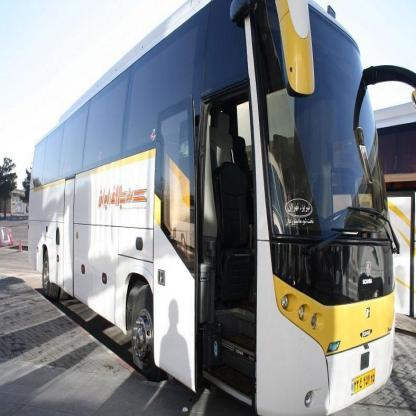Bus: (26, 0, 404, 416)
